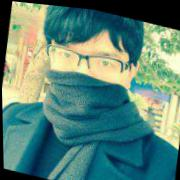WRONG: (41, 28, 127, 126)
